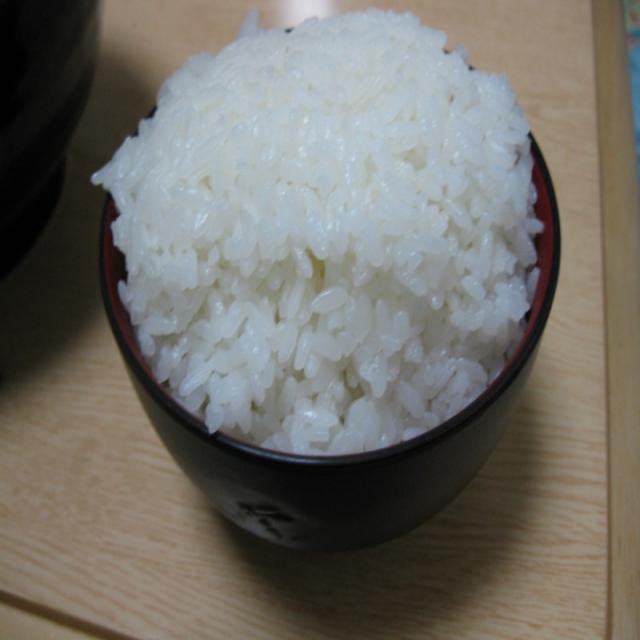rice: (90, 9, 545, 456)
